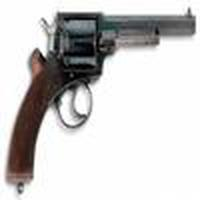gun: (3, 5, 194, 194)
